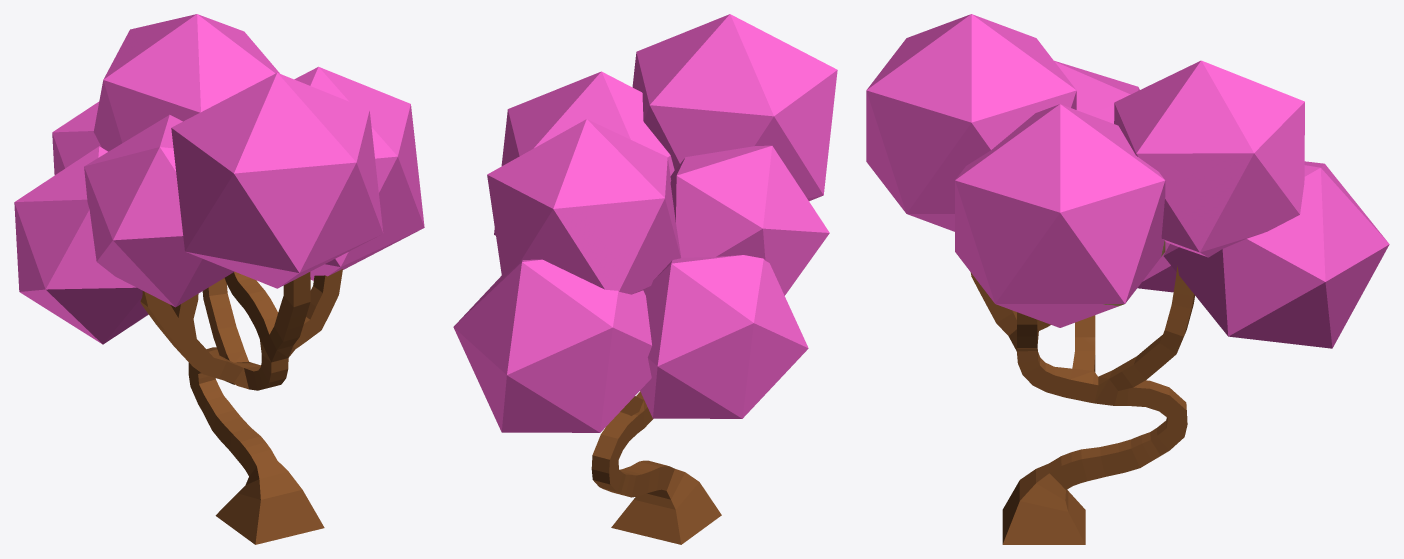
File: pTree 1.fbx
3 renders of one model, left to right at view 1: azimuth 30°, elevation 25°; view 2: azimuth 150°, elevation 25°; view 3: azimuth 270°, elevation 25°, orthographic. The views are drawn at different scales.
Visible parts, largest first — view 1: pTree; view 2: pTree; view 3: pTree.
Part boxes in pixels (x1,y1,x2,y2): pTree: (14,14,424,544); pTree: (453,14,837,544); pTree: (866,14,1389,544).
Size of the model in its own units: 5079 by 5348 by 3847.
1 material, 1 textured.
